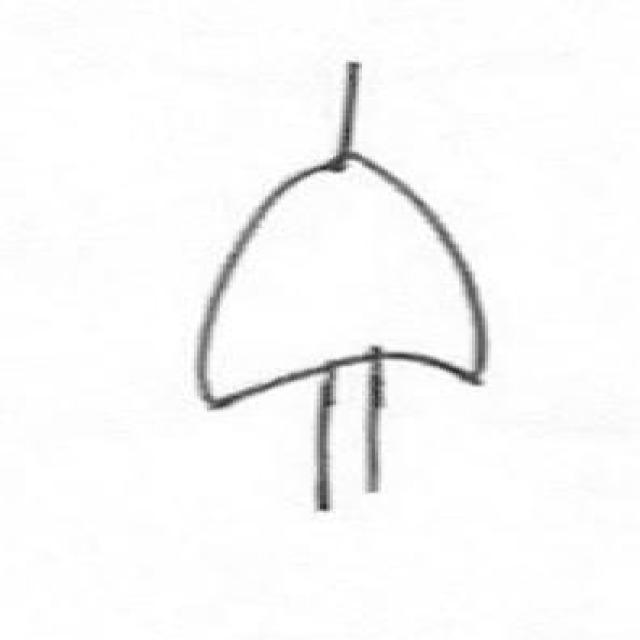OR: (134, 125, 573, 418)
